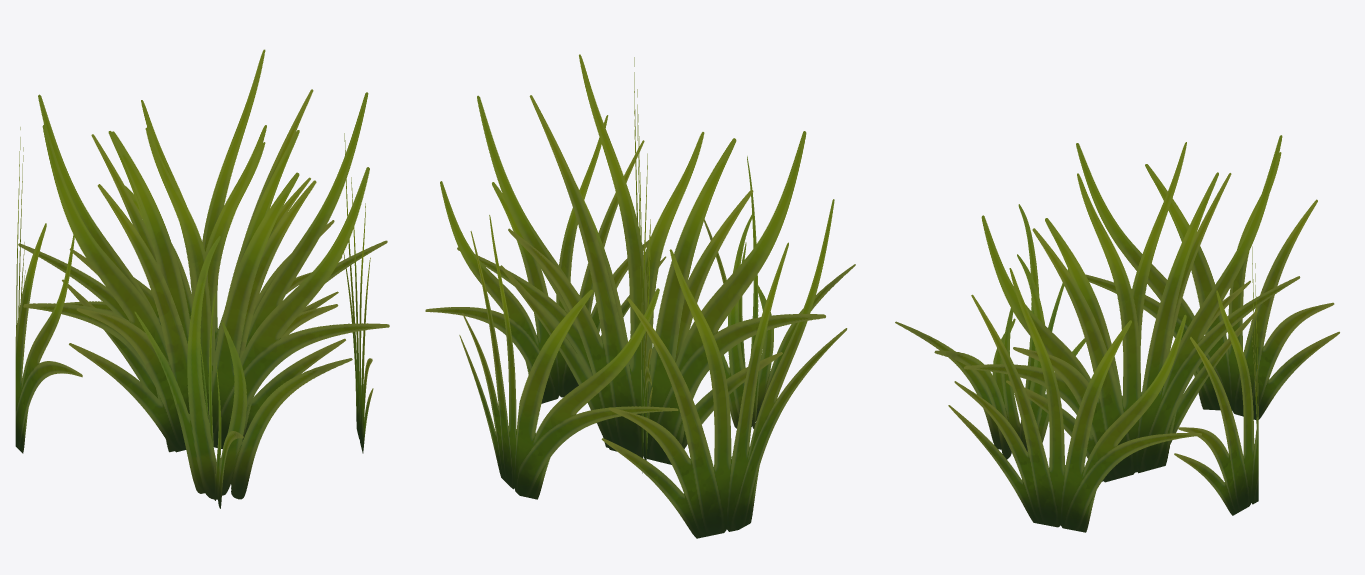
File: SM_Grass_04.fbx
The picture shows the model from 3 angles, left to right: view 1: azimuth 30°, elevation 25°; view 2: azimuth 150°, elevation 25°; view 3: azimuth 270°, elevation 25°; orthographic projection. The views are drawn at different scales.
Visible parts, largest first — view 1: SM_Grass_04; view 2: SM_Grass_04; view 3: SM_Grass_04.
Part boxes in pixels (x1,y1,x2,y2): SM_Grass_04: (15, 49, 389, 508); SM_Grass_04: (425, 54, 855, 538); SM_Grass_04: (895, 135, 1339, 532).
Bounding box in the file's own units: 0.2541 × 0.2593 × 0.2875.
